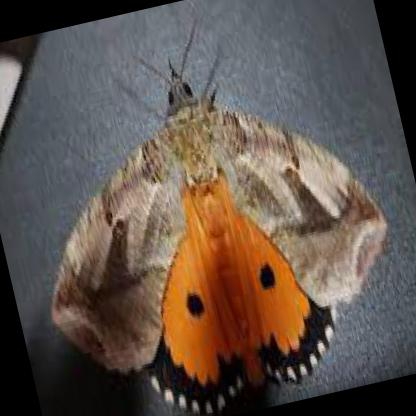fruit sucking moth: (51, 58, 386, 416)
